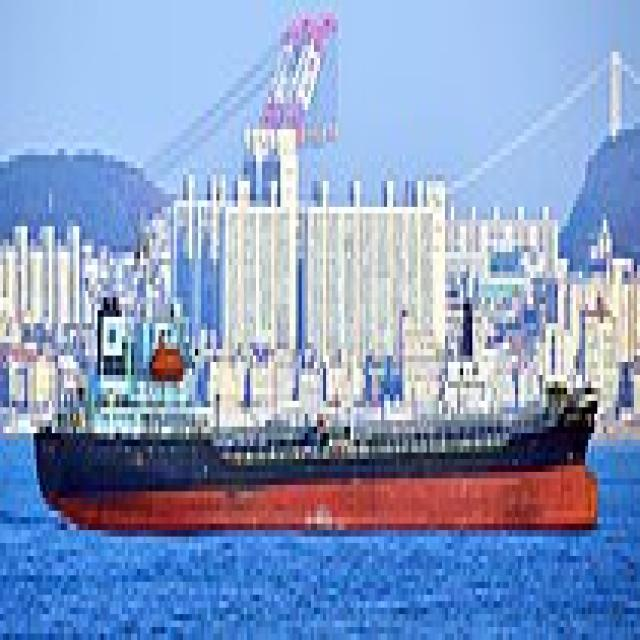Tanker: (28, 284, 600, 536)
